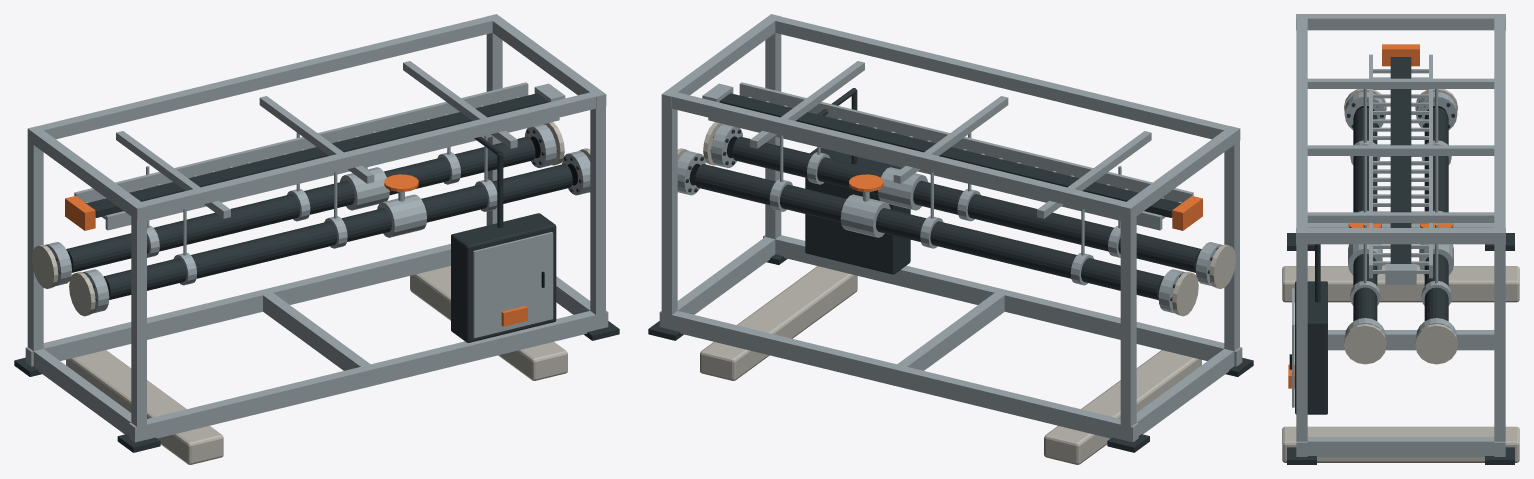
Rendered from dfma.glb.
The picture shows the model from 3 angles, left to right: view 1: azimuth 30°, elevation 25°; view 2: azimuth 150°, elevation 25°; view 3: azimuth 270°, elevation 25°; orthographic projection. The views are drawn at different scales.
Visible parts, largest first — view 1: Frame_Base_01, Pipe_Circuit_01, Distribution_Panel_01, Pipe_Circuit_02, Frame_EndPortal_01, Frame_TopRail_01, Frame_TopRail_02, Frame_EndPortal_02, Cable_LadderTray_01, Cable_FeederBundle_01, Transport_SupportBlock_01, Transport_SupportBlock_02 (+13 smaller); view 2: Frame_Base_01, Pipe_Circuit_02, Pipe_Circuit_01, Frame_EndPortal_01, Frame_TopRail_02, Frame_EndPortal_02, Frame_TopRail_01, Cable_LadderTray_01, Transport_SupportBlock_02, Cable_FeederBundle_01, Distribution_Panel_01, Transport_SupportBlock_01 (+12 smaller); view 3: Frame_EndPortal_02, Frame_Base_01, Transport_SupportBlock_01, Cable_LadderTray_01, Cable_FeederBundle_01, Transport_SupportBlock_02, Frame_EndPortal_01, Pipe_Circuit_01, Pipe_Circuit_02, Distribution_Panel_01, Frame_TopRail_02, Frame_TopRail_01 (+13 smaller).
Part boxes in pixels (bbox=[...]): Frame_Base_01: bbox=[25, 244, 608, 442]; Pipe_Circuit_01: bbox=[103, 135, 572, 299]; Distribution_Panel_01: bbox=[451, 213, 556, 342]; Pipe_Circuit_02: bbox=[66, 132, 535, 272]; Frame_EndPortal_01: bbox=[14, 126, 160, 452]; Frame_TopRail_01: bbox=[134, 92, 595, 217]; Frame_TopRail_02: bbox=[38, 16, 492, 139]; Frame_EndPortal_02: bbox=[486, 14, 619, 340]; Cable_LadderTray_01: bbox=[74, 82, 559, 230]; Cable_FeederBundle_01: bbox=[86, 83, 565, 217]; Transport_SupportBlock_01: bbox=[66, 350, 223, 464]; Transport_SupportBlock_02: bbox=[410, 266, 567, 380]; Frame_Base_01: bbox=[659, 235, 1242, 442]; Pipe_Circuit_02: bbox=[695, 135, 1164, 299]; Pipe_Circuit_01: bbox=[732, 132, 1201, 272]; Frame_EndPortal_01: bbox=[1107, 126, 1253, 452]; Frame_TopRail_02: bbox=[672, 92, 1127, 217]; Frame_EndPortal_02: bbox=[648, 14, 787, 340]; Frame_TopRail_01: bbox=[775, 16, 1229, 139]; Cable_LadderTray_01: bbox=[708, 82, 1193, 230]; Transport_SupportBlock_02: bbox=[700, 266, 857, 380]; Cable_FeederBundle_01: bbox=[702, 83, 1181, 217]; Distribution_Panel_01: bbox=[805, 148, 910, 274]; Transport_SupportBlock_01: bbox=[1044, 350, 1201, 464]; Frame_EndPortal_02: bbox=[1287, 228, 1514, 464]; Frame_Base_01: bbox=[1296, 223, 1505, 457]; Transport_SupportBlock_01: bbox=[1282, 266, 1519, 302]; Cable_LadderTray_01: bbox=[1369, 54, 1432, 278]; Cable_FeederBundle_01: bbox=[1385, 57, 1416, 284]; Transport_SupportBlock_02: bbox=[1282, 426, 1519, 462]; Frame_EndPortal_01: bbox=[1287, 14, 1514, 250]; Pipe_Circuit_01: bbox=[1350, 89, 1380, 321]; Pipe_Circuit_02: bbox=[1421, 89, 1451, 321]; Distribution_Panel_01: bbox=[1289, 281, 1327, 414]; Frame_TopRail_02: bbox=[1494, 18, 1505, 231]; Frame_TopRail_01: bbox=[1296, 18, 1307, 227].
Bounding box in the file's own units: 7.12 × 3.51 × 3.
